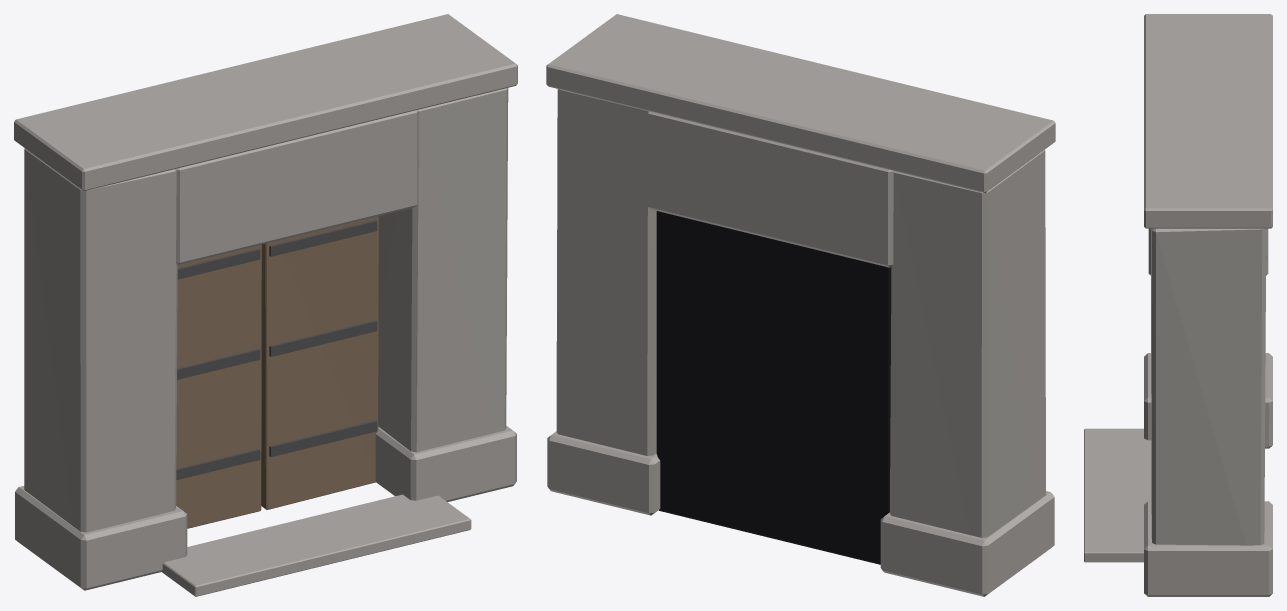
The model's file is doorway.glb.
3 views of the same model, side by side, from view 1: azimuth 30°, elevation 25°; view 2: azimuth 150°, elevation 25°; view 3: azimuth 270°, elevation 25° (orthographic). The views are drawn at different scales.
Parts seen in each view (by area): view 1: stone, wood, iron; view 2: stone, void; view 3: stone.
Boxes of the visible parts, <box> form: stone: <box>14,14,517,596</box>; wood: <box>176,216,378,528</box>; iron: <box>176,220,377,480</box>; stone: <box>546,14,1055,596</box>; void: <box>656,211,891,564</box>; stone: <box>1084,14,1272,596</box>.
Size of the model in its own units: 4.1 by 3.81 by 1.67.
